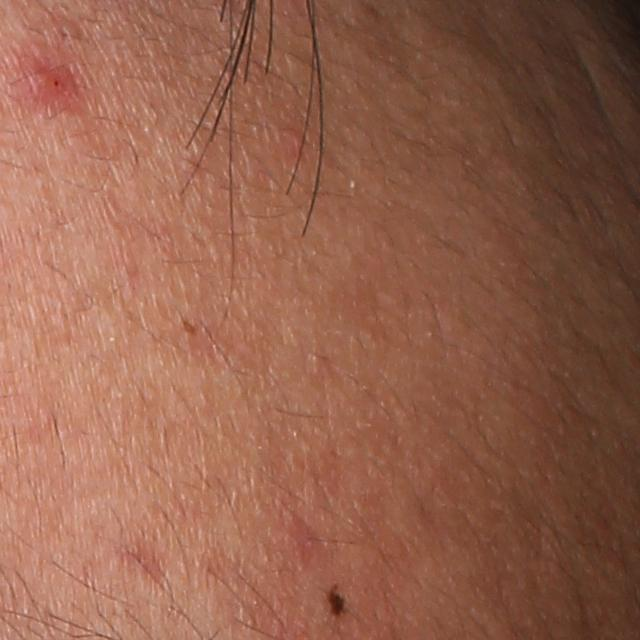nevus: (325, 584, 355, 623)
papule: (16, 50, 87, 117)
